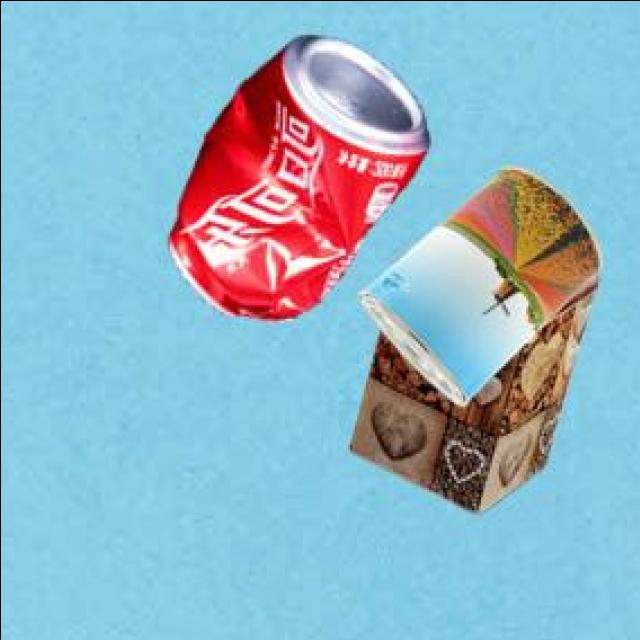logam: (163, 39, 425, 326), (346, 278, 594, 515), (355, 170, 598, 409)
